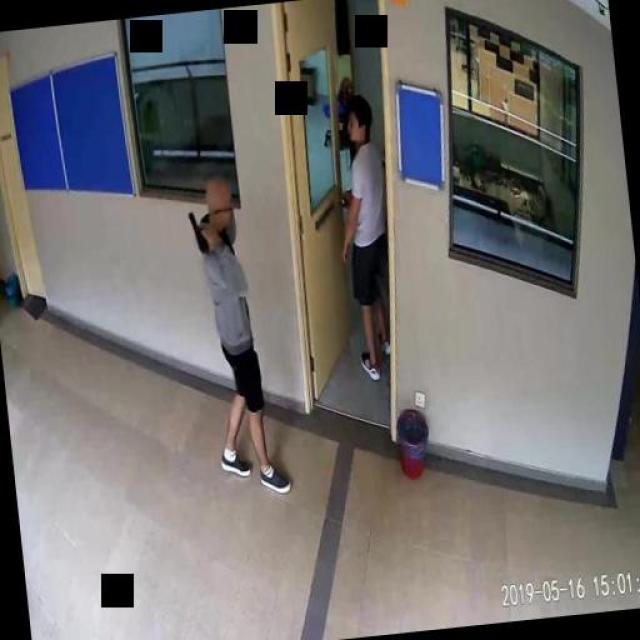gun: (188, 208, 214, 252)
